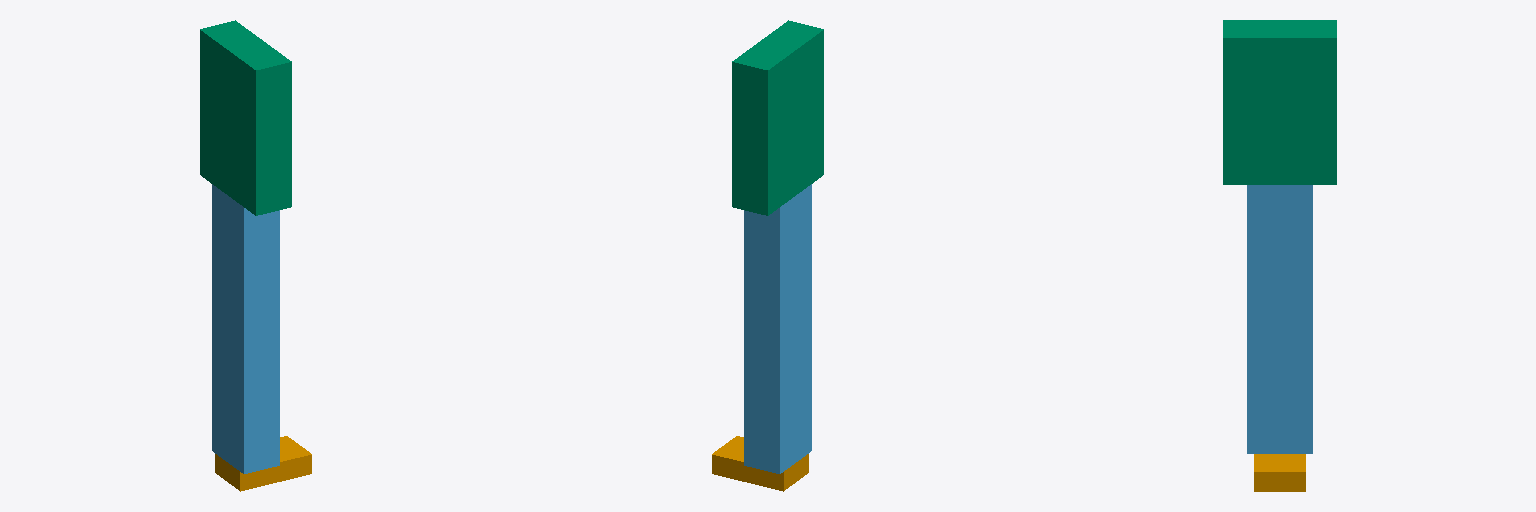
robot.urdf — threeLinkHuman_subject4:
<robot name="threeLinkHuman_subject4">
    <link name="foot">
        <inertial>
            <mass value="4.3026"/>
            <origin xyz="0 0 0.033786" rpy="0 0 0" />
            <inertia ixx="0.010672" iyy="0.025844" izz="0.033241" ixy="0" ixz="0" iyz="0"/>
        </inertial>

        <visual>
			<origin xyz="0 0 0.033786" rpy="0 0 0" />
            <geometry>
                <box size="0.25983 0.15874 0.067571"/>
            </geometry>
        </visual>

        <collision>
			<origin xyz="0 0 0.033786" rpy="0 0 0" />
            <geometry>
                <box size="0.25983 0.15874 0.067571"/>
            </geometry>
        </collision>
    </link>
    
    <link name="leg">
        <inertial>
            <mass value="37.3364"/>
            <origin xyz="0 0 0.46049" rpy="0 0 0" />
            <inertia ixx="2.7662" iyy="2.6916" izz="0.17963" ixy="0" ixz="0" iyz="0"/>
        </inertial>

        <visual>
            <origin xyz="0 0 0.46049" rpy="0 0 0" />
            <geometry>
                <box size="0.12992 0.20213 0.92097"/>
            </geometry>
        </visual>

        <collision>
            <origin xyz="0 0 0.46049" rpy="0 0 0" />
            <geometry>
                <box size="0.12992 0.20213 0.92097"/>
            </geometry>
        </collision>
    </link>
    
    <link name="torso">
        <inertial>
            <mass value="35.4878"/>
            <origin xyz="0 0 0.2507" rpy="0 0 0" />
            <inertia ixx="1.1118" iyy="0.79341" izz="0.41818" ixy="0" ixz="0" iyz="0"/>
        </inertial>

        <visual>
            <origin xyz="0 0 0.2507" rpy="0 0 0" />
            <geometry>
                <box size="0.12992 0.35288 0.50141"/>
            </geometry>
        </visual>

        <collision>
            <origin xyz="0 0 0.2507" rpy="0 0 0" />
            <geometry>
                <box size="0.12992 0.35288 0.50141"/>
            </geometry>
        </collision>
    </link>
        
    <joint name="ankle" type="revolute">
        <origin xyz="-0.064958 0 0.067571" rpy="0 0 0"/>
        <parent link="foot"/>
        <child link="leg"/>
        <dynamics damping="0.1" friction="0.0"/>
        <limit effort="30" velocity="1.0" lower="-10.0" upper="10.0" />
        <axis xyz="0 1 0" />
    </joint>
    
    <joint name="hip" type="revolute">
        <origin xyz="0 0 0.92097" rpy="0 0 0"/>
        <parent link="leg"/>
        <child link="torso"/>
        <dynamics damping="0.1" friction="0.0"/>
        <limit effort="30" velocity="1.0" lower="-10.0" upper="10.0" />
        <axis xyz="0 1 0" />
    </joint>

</robot>

--- What the picture shows (computed from the rendered views, not written in the file) ---
The picture shows the robot from 3 angles, left to right: view 1: azimuth 30°, elevation 25°; view 2: azimuth 150°, elevation 25°; view 3: azimuth 270°, elevation 25°; orthographic projection.
Model threeLinkHuman_subject4 with 3 links and 2 joints (2 revolute), rooted at foot, posed all joints at 0.
Links seen in each view (by area): view 1: leg, torso, foot; view 2: leg, torso, foot; view 3: torso, leg, foot.
Link boxes in pixels (box(x1,y1,x2,y2)): leg: box(212, 184, 279, 473); torso: box(200, 20, 291, 215); foot: box(215, 436, 311, 491); leg: box(744, 184, 811, 473); torso: box(732, 20, 823, 215); foot: box(712, 436, 808, 491); torso: box(1223, 20, 1336, 184); leg: box(1247, 185, 1312, 453); foot: box(1254, 454, 1305, 491).
Size in the robot's own frame: 0.2598 by 0.3529 by 1.49 metres.
Geometry: primitives only (box / cylinder / sphere), no mesh files.
